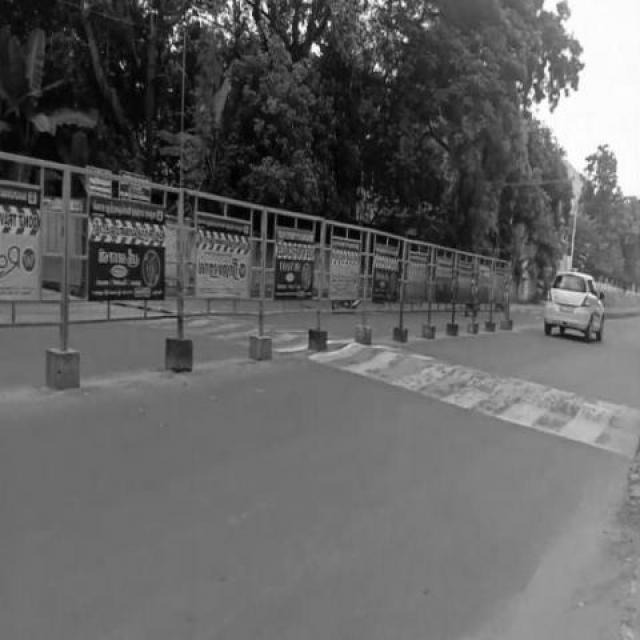Speed Bump: (308, 342, 639, 459), (192, 314, 250, 352), (272, 328, 310, 352)
